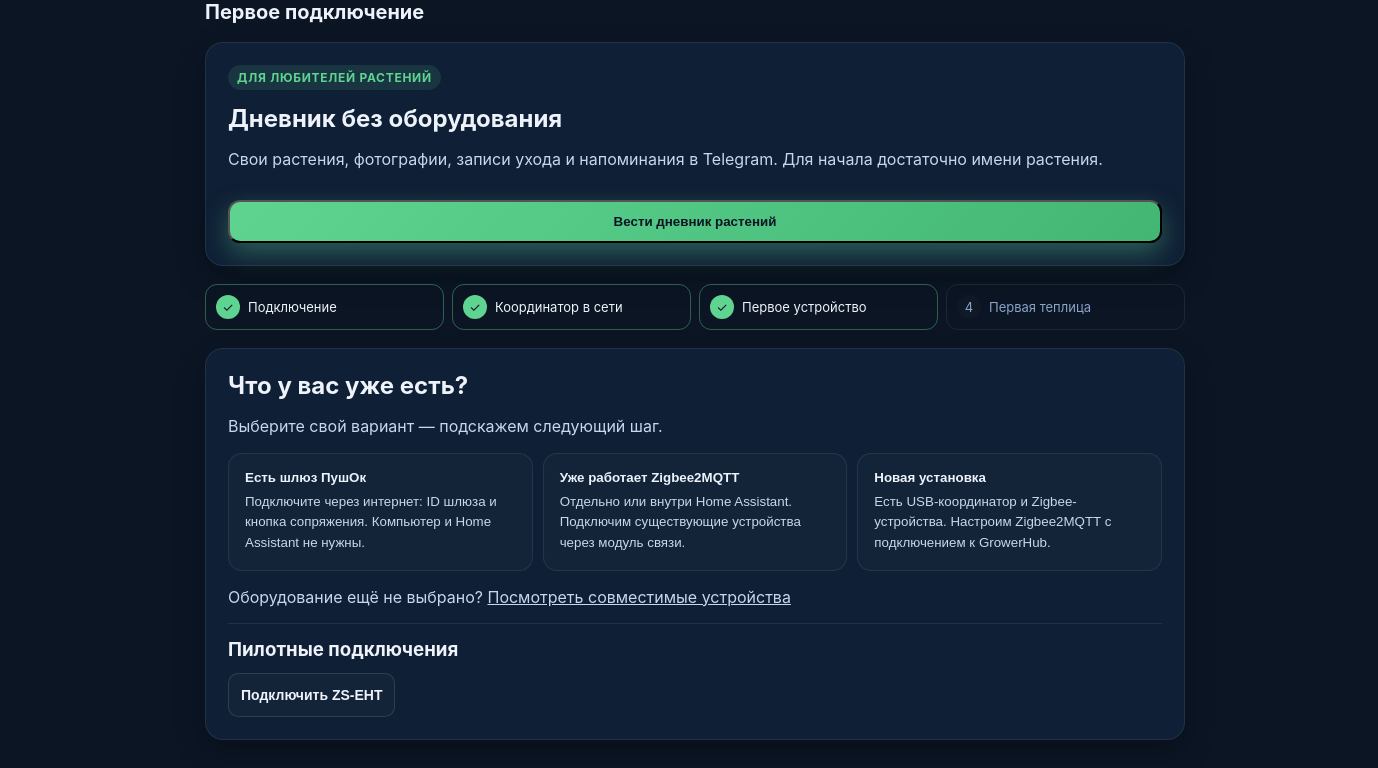
Test case: AppOnboarding › zavershaet pervoe podklyuchenie: yavnyj propusk naznacheniya
Click the button "Уже работает Zigbee2MQTT": [695, 512] box [543, 453, 847, 571]
(page scrolled)
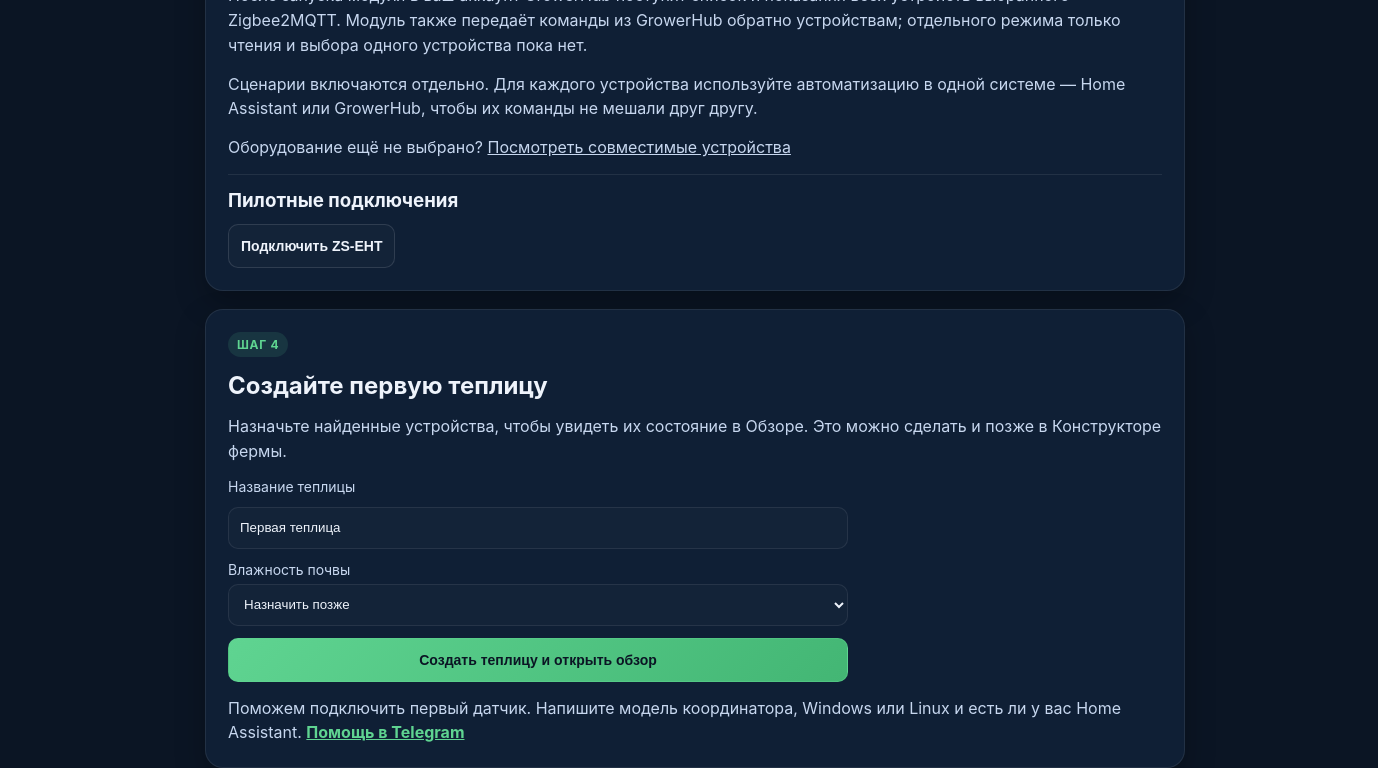
Expected: the heading "Создайте первую теплицу" is shown, [228, 371, 548, 400]
Click the button "Создать теплицу и открыть обзор": [538, 660] box [228, 638, 848, 682]
(page scrolled)
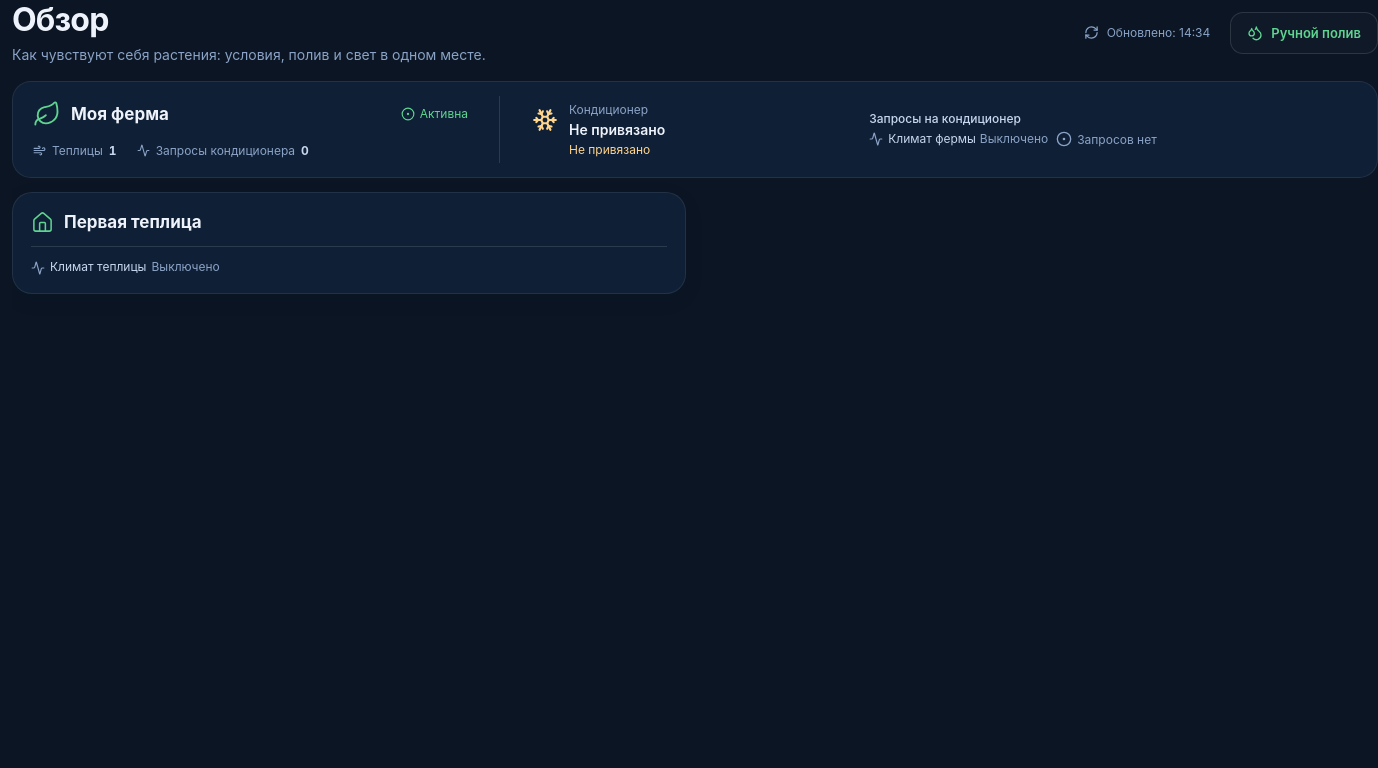
Expected: the heading "Обзор" is shown, [12, 0, 109, 39]
